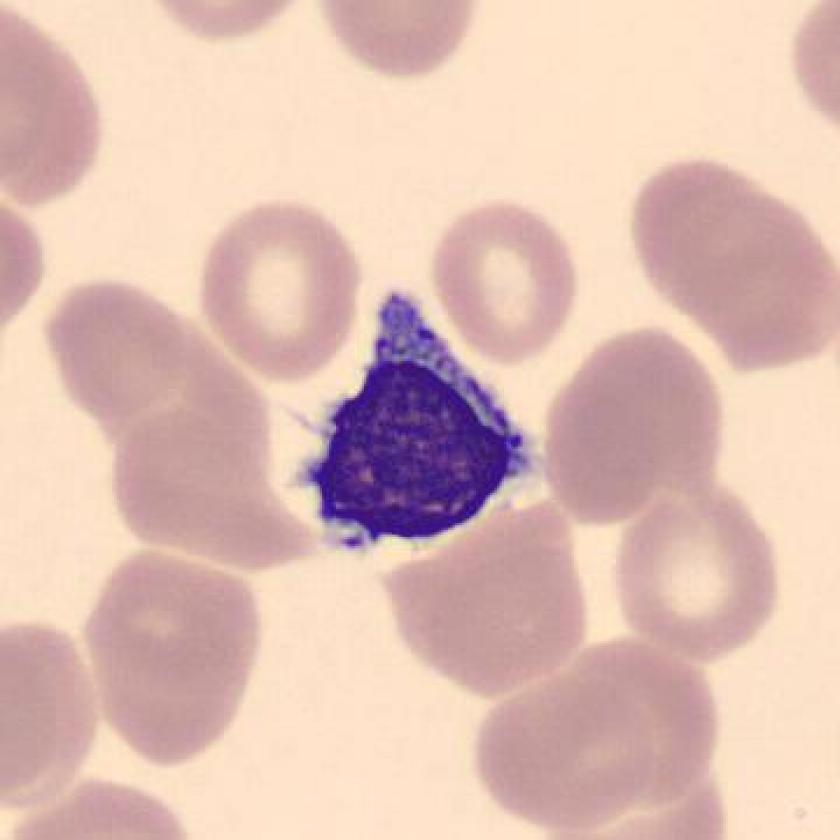lymphocyte: (269, 274, 547, 580)
